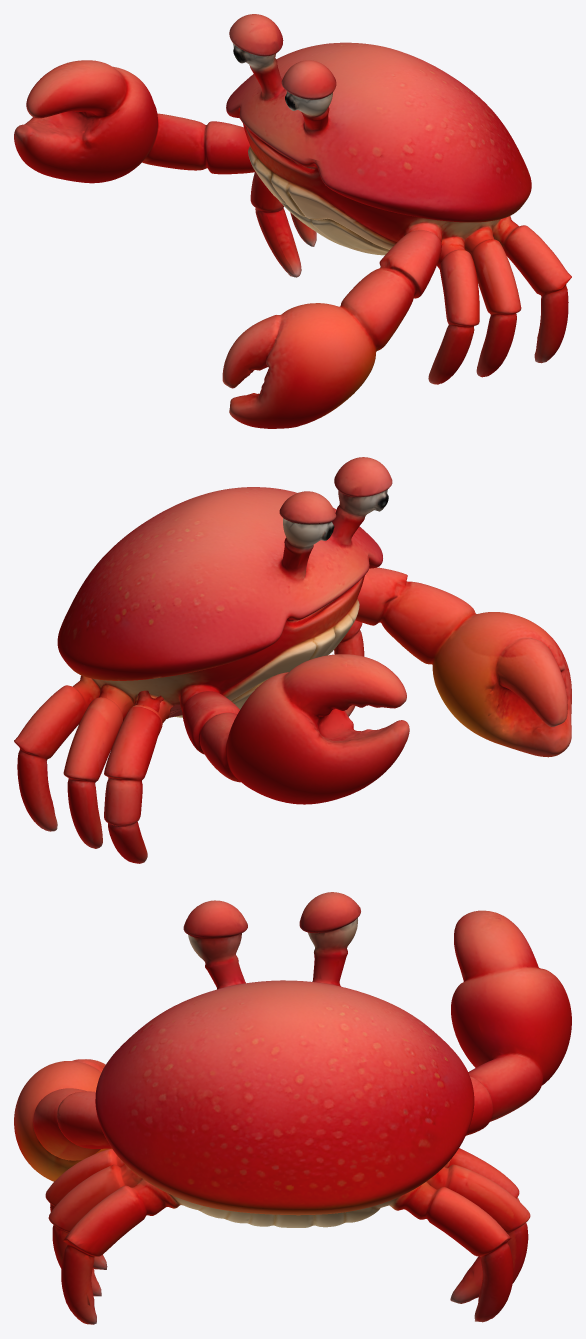
3 renders of one model, top to bottom at view 1: azimuth 30°, elevation 25°; view 2: azimuth 150°, elevation 25°; view 3: azimuth 270°, elevation 25°, orthographic. The views are drawn at different scales.
Parts seen in each view (by area): view 1: node_0; view 2: node_0; view 3: node_0.
Part boxes in pixels (box(x1,y1,x2,y2)): node_0: box(14, 14, 571, 428); node_0: box(14, 457, 571, 863); node_0: box(14, 892, 571, 1324).
Bounding box in the file's own units: 0.8938 × 0.7055 × 1.
Materials: 1 (1 with a texture image).
